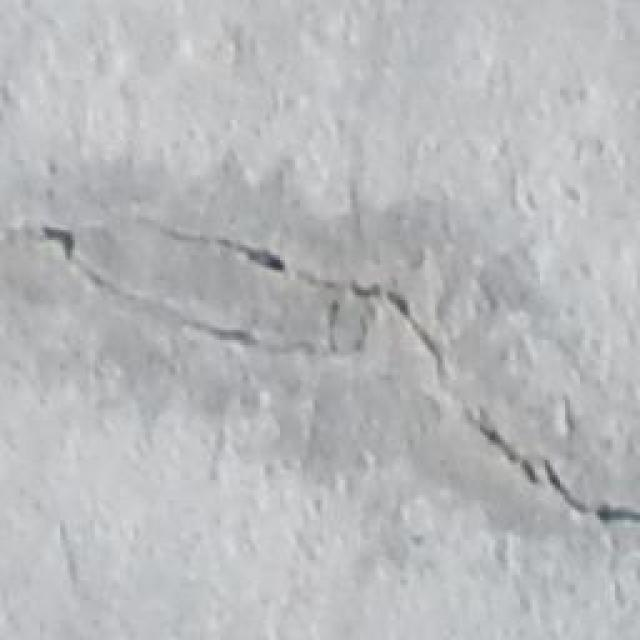concrete-crack: (38, 221, 449, 391), (462, 411, 640, 528)
